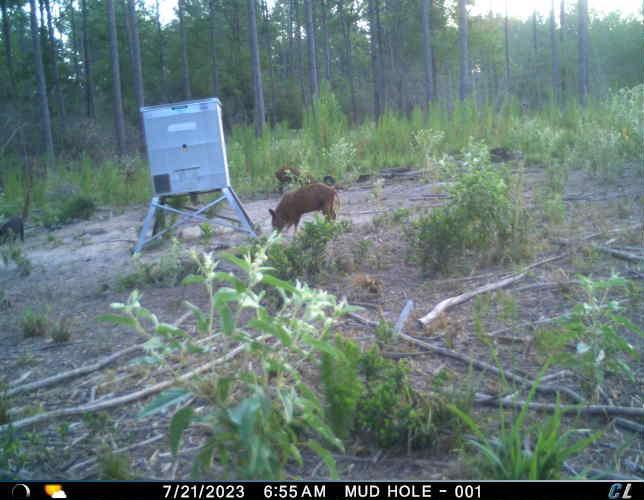Hog: (265, 175, 342, 236), (0, 192, 36, 245), (273, 165, 305, 184)
